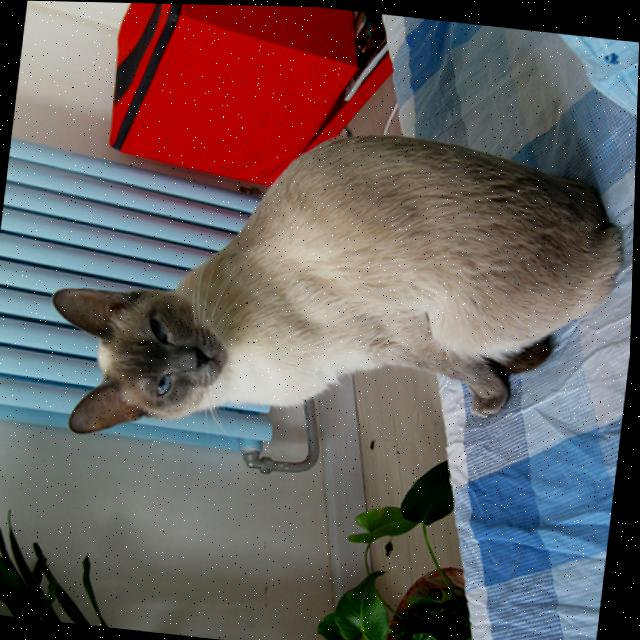Siamese: (36, 94, 638, 490)
